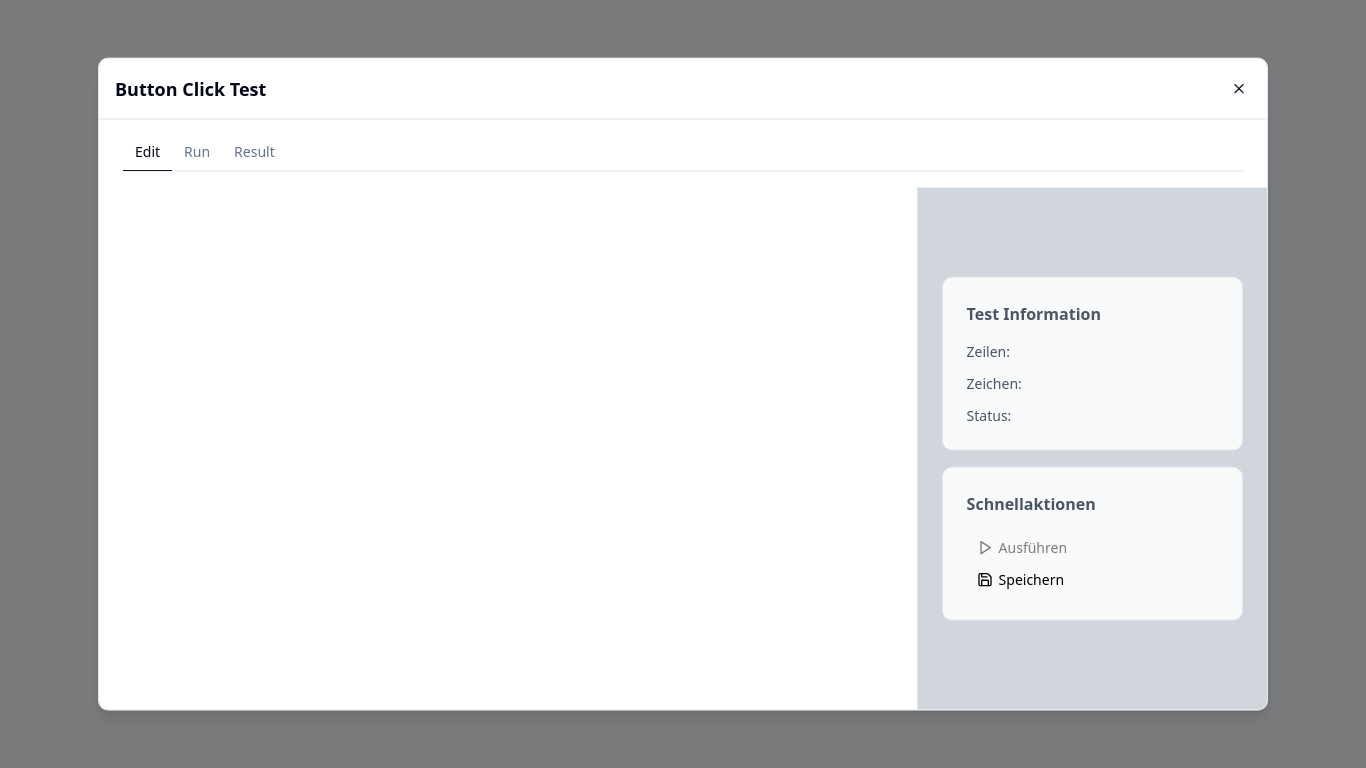
Scenario: RunWindow › handles tab change event
Step 1. Click the tab "Run" → (197, 152), box [172,136,222,168]
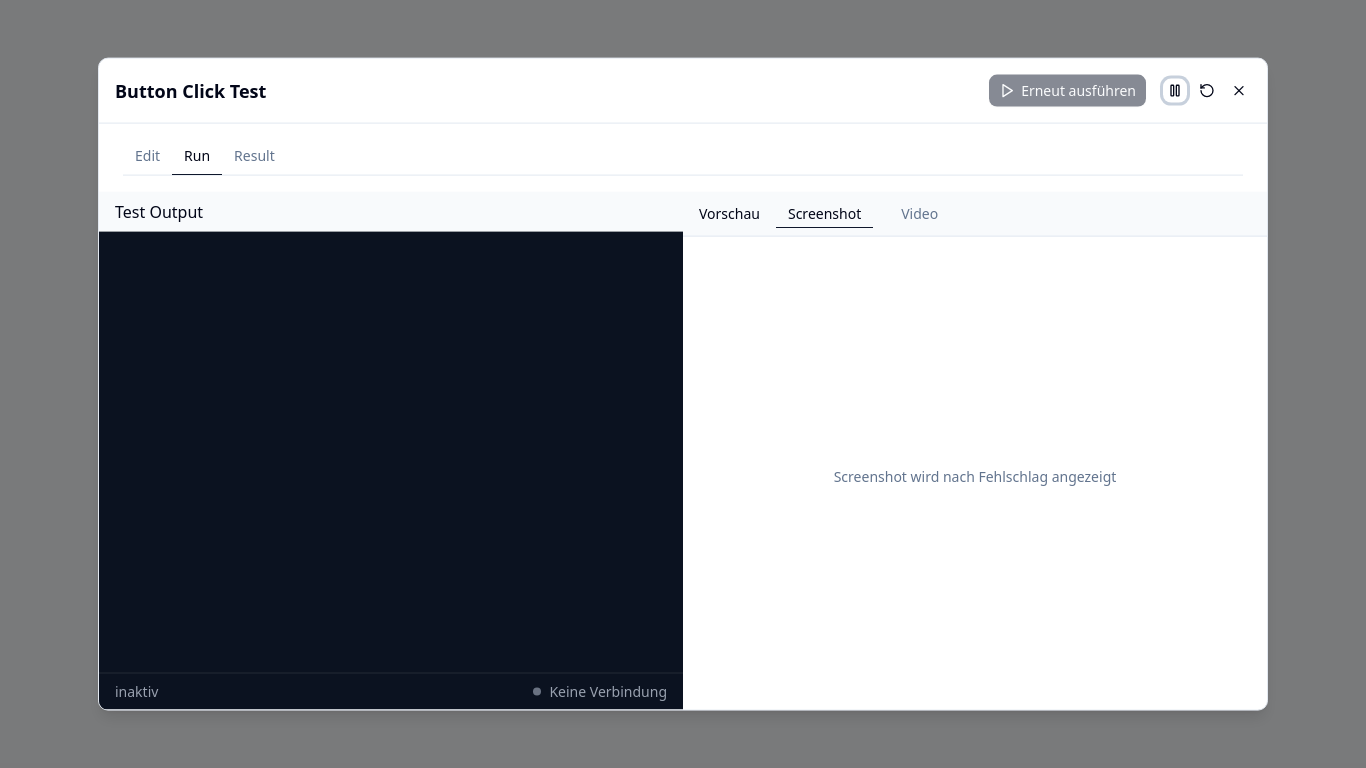
expect the element with class "grid-cols-2" is shown: met, box [99,192,1267,709]
